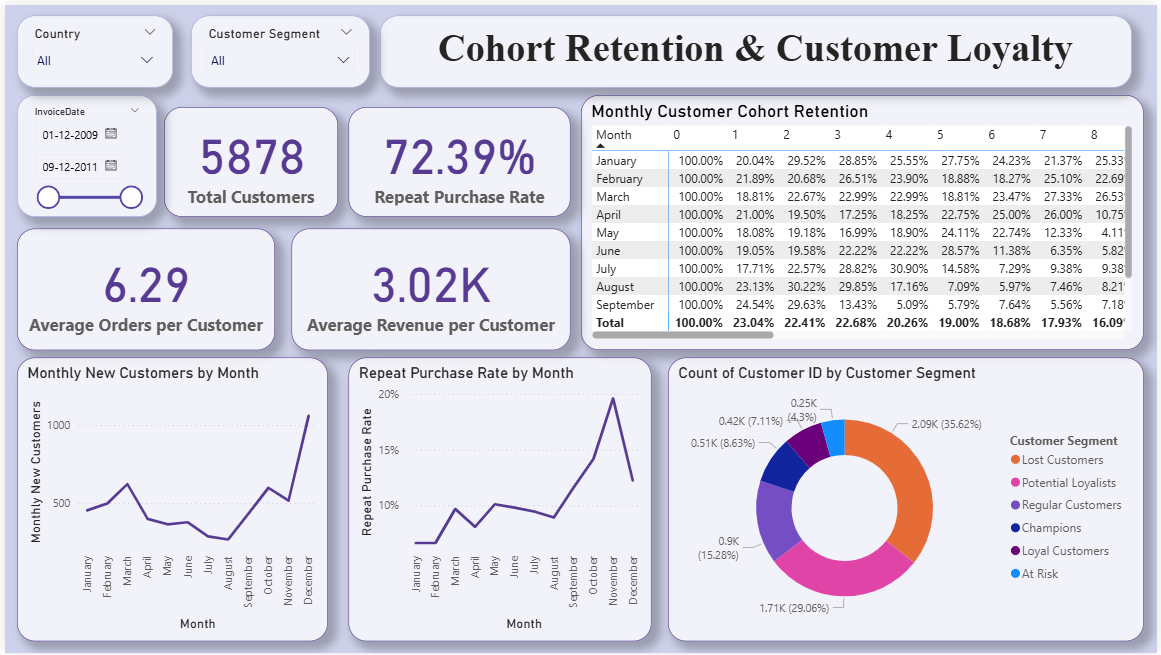

Layout of this report page (visuals, bound fields, positions):
{"tool":"powerbi","page":{"name":"Cohort Retention Analysis","canvas":[1280,720],"ordinal":3},"visuals":[{"type":"pivotTable","title":"Monthly Customer Cohort Retention","fields":{"Rows":["CustomerSummary.Cohort Month.Variation.Date Hierarchy.Month"],"Columns":["RetailData.Months Since First Purchase"],"Values":["Measures Table.Cohort Retention Rate"]},"box":[640,100,625,283.3],"z":0},{"type":"textbox","box":[416.7,11.7,835,80],"z":1000},{"type":"card","fields":{"Values":["Measures Table.Total Customers"]},"box":[176.7,113.3,193.3,121.7],"z":2000},{"type":"card","fields":{"Values":["Measures Table.Repeat Purchase Rate"]},"box":[381.7,113.3,246.7,121.7],"z":3000},{"type":"card","fields":{"Values":["Measures Table.Average Orders per Customer"]},"box":[13.3,248.3,286.7,135],"z":4000},{"type":"card","fields":{"Values":["Measures Table.Average Revenue per Customer"]},"box":[318.3,248.3,310,135],"z":5000},{"type":"lineChart","fields":{"Y":["Measures Table.Monthly New Customers"],"Category":["CustomerSummary.Cohort Month.Variation.Date Hierarchy.Year","CustomerSummary.Cohort Month.Variation.Date Hierarchy.Month"]},"box":[13.3,391.7,345,315],"z":6000},{"type":"lineChart","fields":{"Category":["RetailData.Activity Month.Variation.Date Hierarchy.Month"],"Y":["Measures Table.Repeat Purchase Rate"]},"box":[381.7,391.7,336.7,315],"z":7000},{"type":"donutChart","fields":{"Category":["CustomerSummary.Customer Segment"],"Y":["CountNonNull(CustomerSummary.Customer ID)"]},"box":[736.7,391.7,528.3,315],"z":8000},{"type":"slicer","fields":{"Values":["RetailData.InvoiceDate"]},"box":[13.3,100,155,135],"z":9000},{"type":"slicer","fields":{"Values":["CustomerSummary.Customer Segment"]},"box":[206.7,11.7,198.3,80],"z":10000},{"type":"slicer","fields":{"Values":["RetailData.Country"]},"box":[13.3,11.7,173.3,80],"z":11000}]}

Visuals, with their boxes in screenshot pixels (x1, y1, x2, y2), scaled from the page's 1280x720 canvas onto the 1161x655 screenshot:
"Monthly Customer Cohort Retention" pivotTable: <box>580,91,1147,349</box>
textbox: <box>378,11,1135,83</box>
card - Measures Table.Total Customers: <box>160,103,336,214</box>
card - Measures Table.Repeat Purchase Rate: <box>346,103,570,214</box>
card - Measures Table.Average Orders per Customer: <box>12,226,272,349</box>
card - Measures Table.Average Revenue per Customer: <box>289,226,570,349</box>
lineChart - Measures Table.Monthly New Customers x CustomerSummary.Cohort Month.Variation.Date Hierarchy.Year: <box>12,356,325,643</box>
lineChart - RetailData.Activity Month.Variation.Date Hierarchy.Month x Measures Table.Repeat Purchase Rate: <box>346,356,652,643</box>
donutChart - CustomerSummary.Customer Segment x CountNonNull(CustomerSummary.Customer ID): <box>668,356,1147,643</box>
slicer - RetailData.InvoiceDate: <box>12,91,153,214</box>
slicer - CustomerSummary.Customer Segment: <box>187,11,367,83</box>
slicer - RetailData.Country: <box>12,11,169,83</box>
